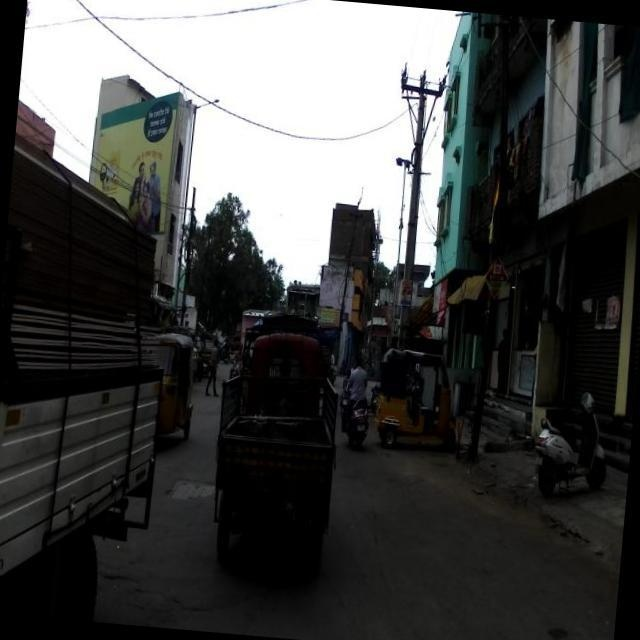pothole: (121, 585, 193, 620), (169, 481, 214, 499), (540, 621, 579, 639)
